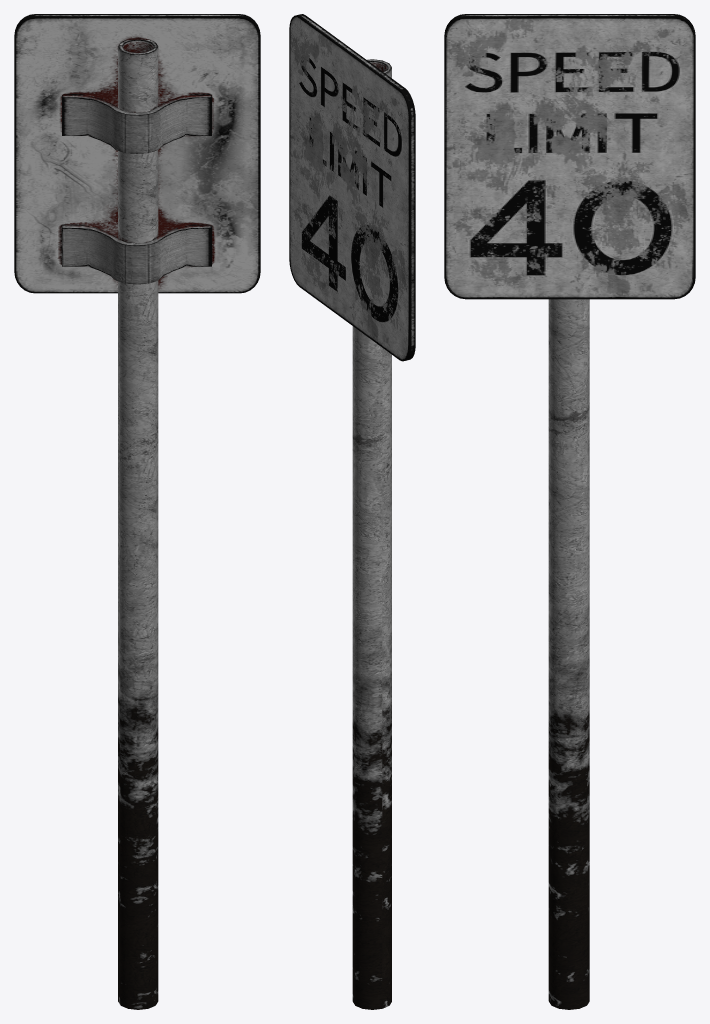
File: weathered_roadsign__gameready.glb
3 views of the same model, side by side, from view 1: azimuth 90°, elevation 25°; view 2: azimuth 210°, elevation 25°; view 3: azimuth 270°, elevation 25° (orthographic). The views are drawn at different scales.
Parts seen in each view (by area): view 1: SpeedlimitSign_LOW; view 2: SpeedlimitSign_LOW; view 3: SpeedlimitSign_LOW.
Part boxes in pixels (left/top/right/bottom): SpeedlimitSign_LOW: left=14, top=14, right=260, bottom=1009; SpeedlimitSign_LOW: left=289, top=14, right=415, bottom=1009; SpeedlimitSign_LOW: left=444, top=14, right=695, bottom=1009.
Size of the model in its own units: 0.1369 by 2.68 by 0.6121.
1 material, 1 textured.
